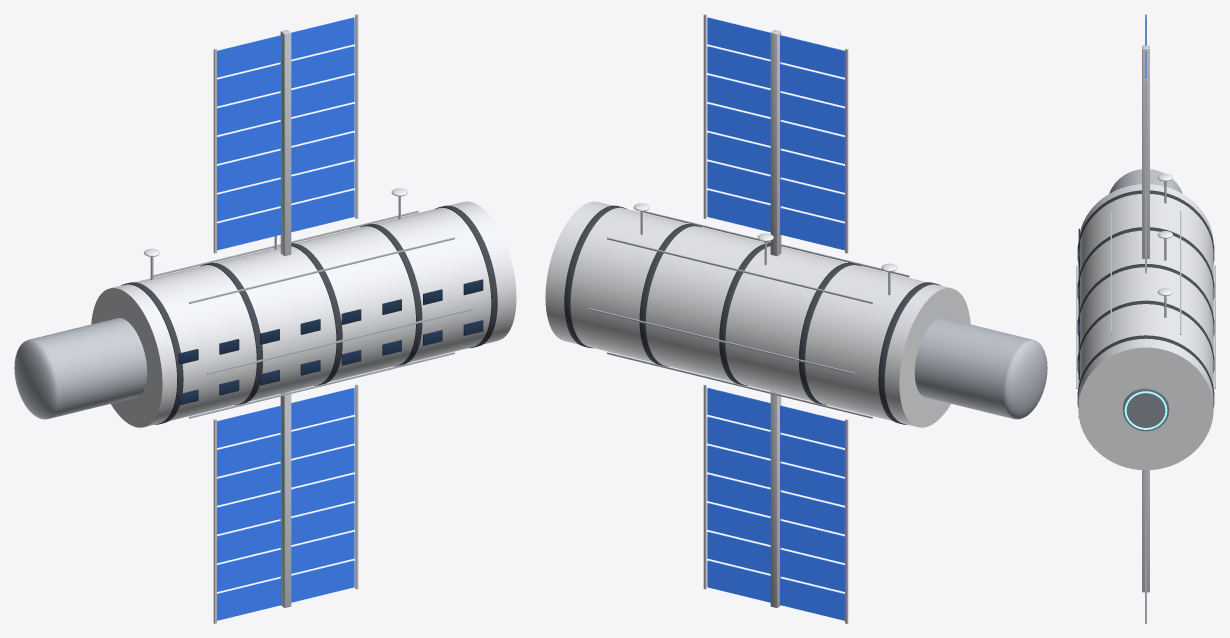
Rendered from zenith_station.glb.
The picture shows the model from 3 angles, left to right: view 1: azimuth 30°, elevation 25°; view 2: azimuth 150°, elevation 25°; view 3: azimuth 270°, elevation 25°; orthographic projection. The views are drawn at different scales.
Visible parts, largest first — view 1: main, array_1, array_-1, aft, aft_cap, band.004, band.003, band.002, band.001, band, handrail_0, handrail_1 (+2 smaller); view 2: main, array_1, array_-1, aft, aft_cap, band, band.004, band.001, band.003, band.002, handrail_3, handrail_2 (+2 smaller); view 3: main, array_1, airlock_door, array_-1, aft, band.004, band.003, band.002, band, band.001, airlock, hatch_ring (+4 smaller).
Part boxes in pixels (left/top/right/bottom): main: left=91, top=201, right=516, bottom=427; array_1: left=213, top=14, right=358, bottom=256; array_-1: left=213, top=384, right=358, bottom=623; aft: left=30, top=318, right=147, bottom=418; aft_cap: left=14, top=339, right=58, bottom=419; band.004: left=435, top=205, right=497, bottom=348; band.003: left=360, top=224, right=422, bottom=366; band.002: left=291, top=243, right=342, bottom=385; band.001: left=200, top=262, right=263, bottom=405; band: left=121, top=282, right=183, bottom=424; handrail_0: left=207, top=308, right=473, bottom=374; handrail_1: left=189, top=237, right=454, bottom=303; main: left=545, top=201, right=970, bottom=427; array_1: left=703, top=14, right=848, bottom=256; array_-1: left=703, top=384, right=848, bottom=623; aft: left=914, top=318, right=1031, bottom=418; aft_cap: left=1003, top=339, right=1047, bottom=419; band: left=878, top=282, right=940, bottom=424; band.004: left=564, top=205, right=626, bottom=348; band.001: left=798, top=262, right=861, bottom=405; band.003: left=639, top=224, right=701, bottom=366; band.002: left=719, top=243, right=770, bottom=385; handrail_3: left=588, top=308, right=854, bottom=374; handrail_2: left=607, top=237, right=872, bottom=303; main: left=1078, top=184, right=1213, bottom=470; array_1: left=1142, top=14, right=1149, bottom=273; airlock_door: left=1122, top=388, right=1169, bottom=431; array_-1: left=1142, top=470, right=1149, bottom=623; aft: left=1109, top=169, right=1182, bottom=193; band.004: left=1077, top=335, right=1214, bottom=407; band.003: left=1077, top=300, right=1214, bottom=372; band.002: left=1077, top=264, right=1214, bottom=335; band: left=1077, top=190, right=1214, bottom=262; band.001: left=1077, top=227, right=1214, bottom=299; airlock: left=1117, top=382, right=1174, bottom=435; hatch_ring: left=1124, top=391, right=1167, bottom=429.
Size of the model in its own units: 51.9 by 62 by 14.45.
